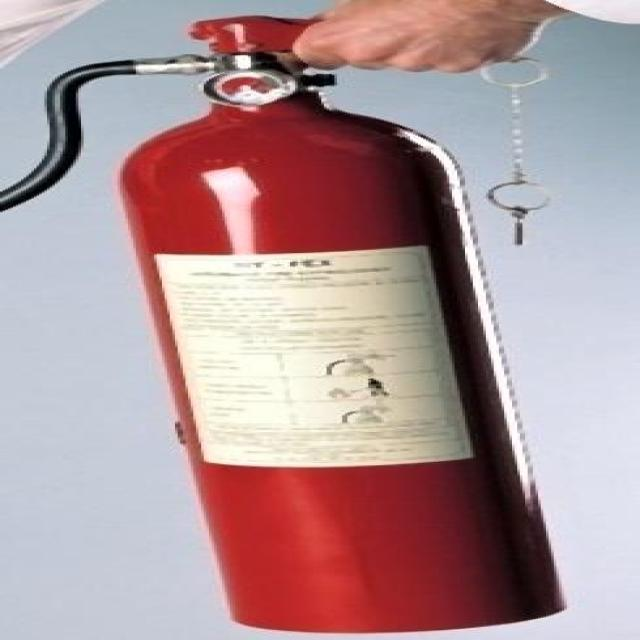fire_extinguisher: (0, 10, 580, 632)
